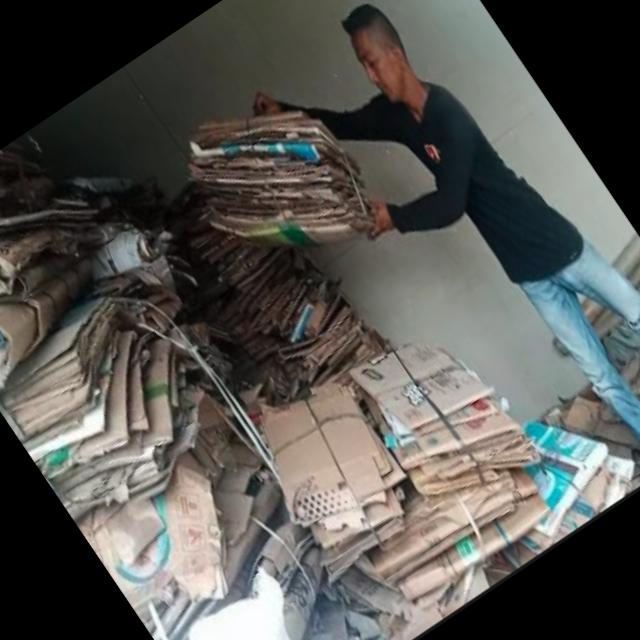Kardus: (0, 109, 338, 640), (216, 295, 582, 640), (160, 62, 398, 310)
